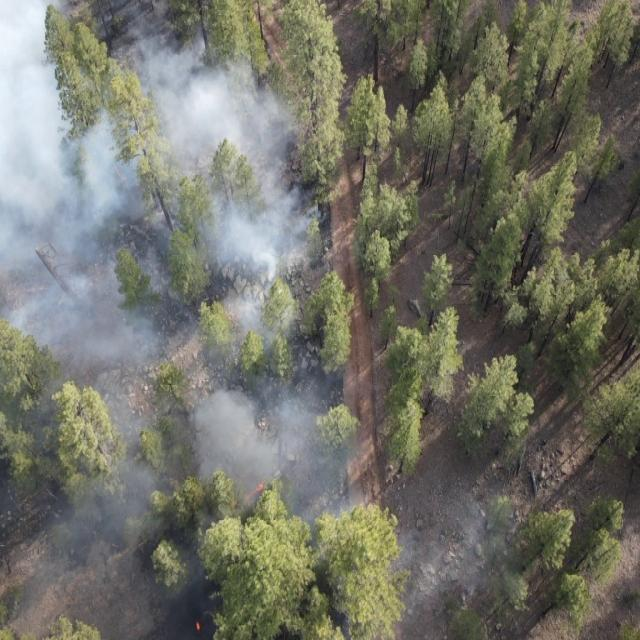fire: (241, 481, 271, 502), (114, 166, 128, 182), (195, 619, 202, 633)
smoke: (0, 0, 322, 298), (0, 299, 359, 486), (27, 484, 213, 640), (308, 487, 490, 597)
